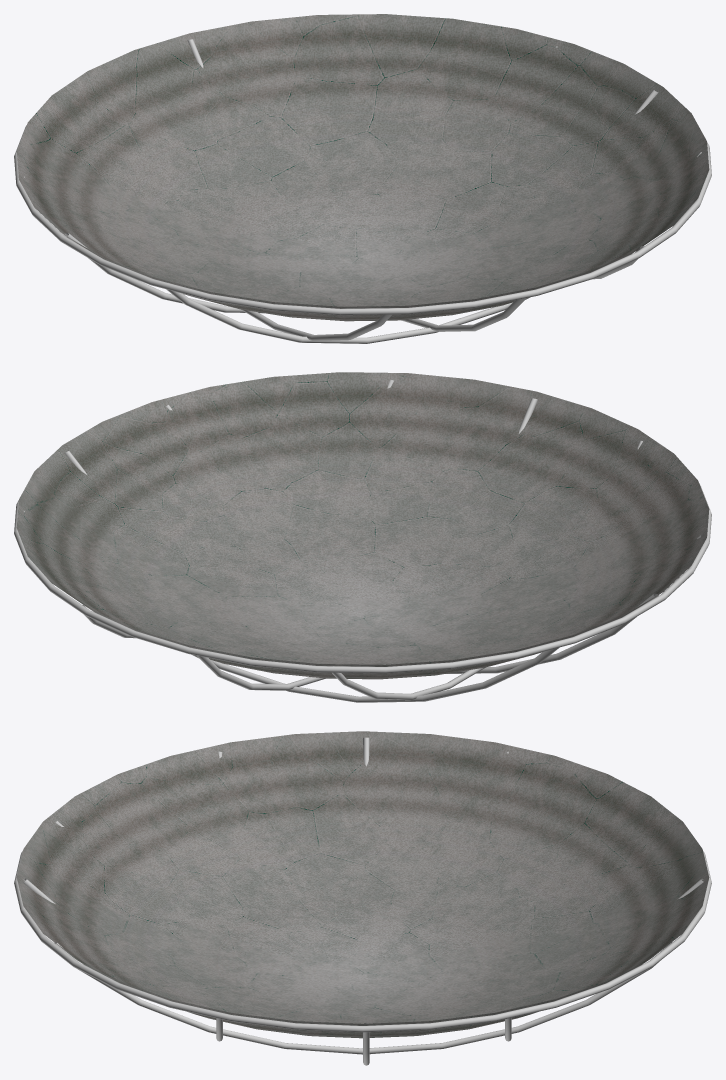
The model's file is sm_Lamp_02_07.fbx.
3 views of the same model, one above another, from view 1: azimuth 30°, elevation 25°; view 2: azimuth 150°, elevation 25°; view 3: azimuth 270°, elevation 25° (orthographic).
Visible parts, largest first — view 1: sm_Lamp_02_07_LOD0; view 2: sm_Lamp_02_07_LOD0; view 3: sm_Lamp_02_07_LOD0.
Boxes of the visible parts, bbox=[...] form: sm_Lamp_02_07_LOD0: bbox=[14, 14, 711, 343]; sm_Lamp_02_07_LOD0: bbox=[14, 372, 711, 702]; sm_Lamp_02_07_LOD0: bbox=[14, 731, 711, 1065].
Bounding box in the file's own units: 43.51 × 43.51 × 9.85.
